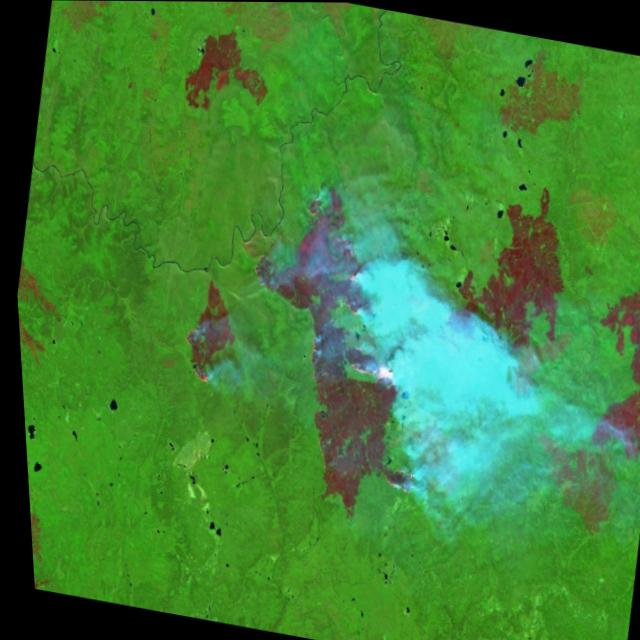fire: (147, 167, 465, 503)
